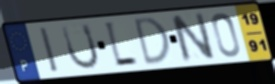0: (210, 11, 242, 59)
D: (133, 15, 173, 68)
I: (37, 25, 61, 75)
L: (102, 20, 141, 70)
N: (168, 10, 218, 64)
U: (60, 22, 101, 72)
